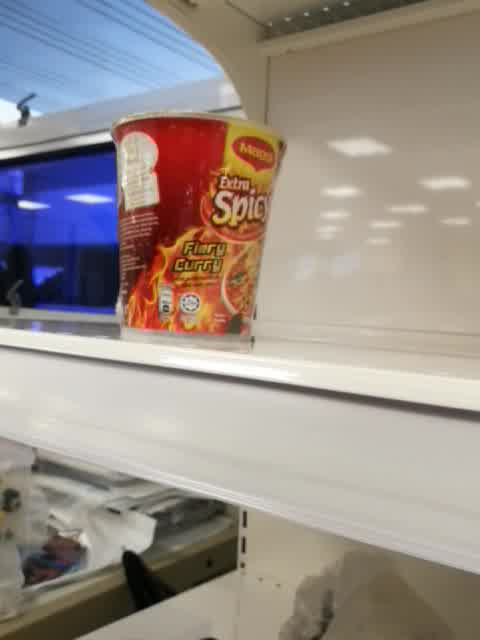maggi: (108, 110, 286, 344)
